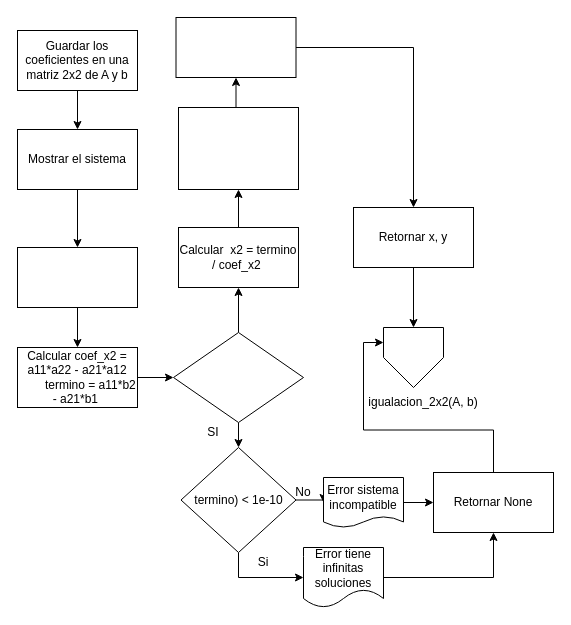
The diagram is 571 pixels wide and 625 high, and some of its shapes have lost their labels. The box of each missing label's shape, as (x1, y1, x2, y2) in pixels:
(coef_x2) < 1e-10: (172, 332, 304, 422)
Mostrar desarrollo del sistema: (16, 246, 138, 308)
Mostrar procedimiento de sustituir x2 en la ecuacion de x1 despejada: (178, 106, 298, 190)
Sustituir x2 en x1 = (b1 - a12*x2) / a11: (175, 16, 296, 78)
